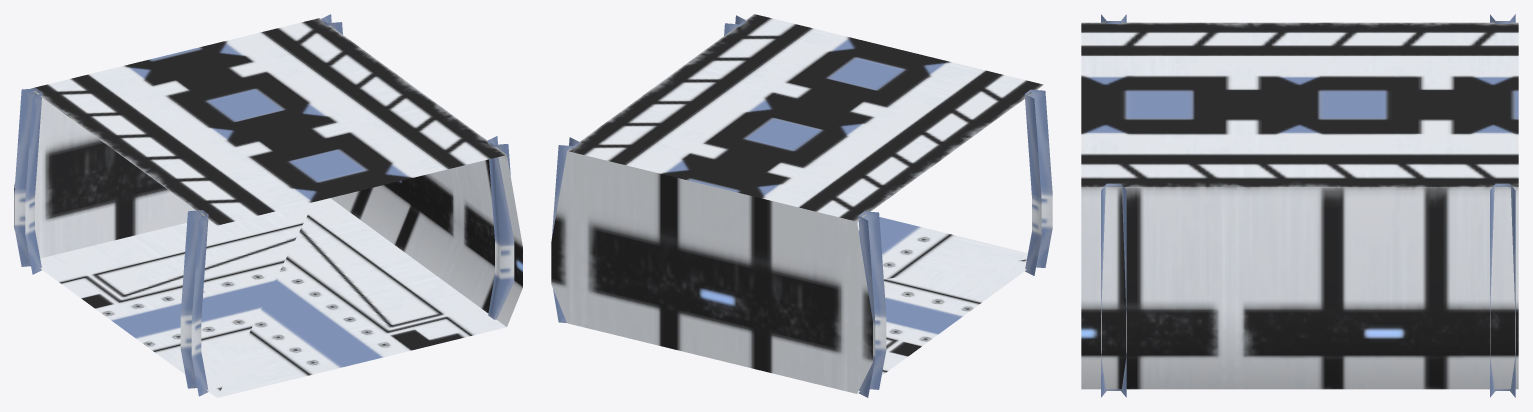
The picture shows the model from 3 angles, left to right: view 1: azimuth 30°, elevation 25°; view 2: azimuth 150°, elevation 25°; view 3: azimuth 270°, elevation 25°; orthographic projection. The views are drawn at different scales.
Parts seen in each view (by area): view 1: block:block_lvl2_block_lvl2_phong_block_0.005; view 2: block:block_lvl2_block_lvl2_phong_block_0.005; view 3: block:block_lvl2_block_lvl2_phong_block_0.005.
Part boxes in pixels (box(x1,y1,x2,y2)): block:block_lvl2_block_lvl2_phong_block_0.005: box(14, 14, 522, 397); block:block_lvl2_block_lvl2_phong_block_0.005: box(551, 14, 1052, 397); block:block_lvl2_block_lvl2_phong_block_0.005: box(1081, 14, 1518, 397).
Bounding box in the file's own units: 13.86 × 7.25 × 13.86.
Materials: 1 (1 with a texture image).
